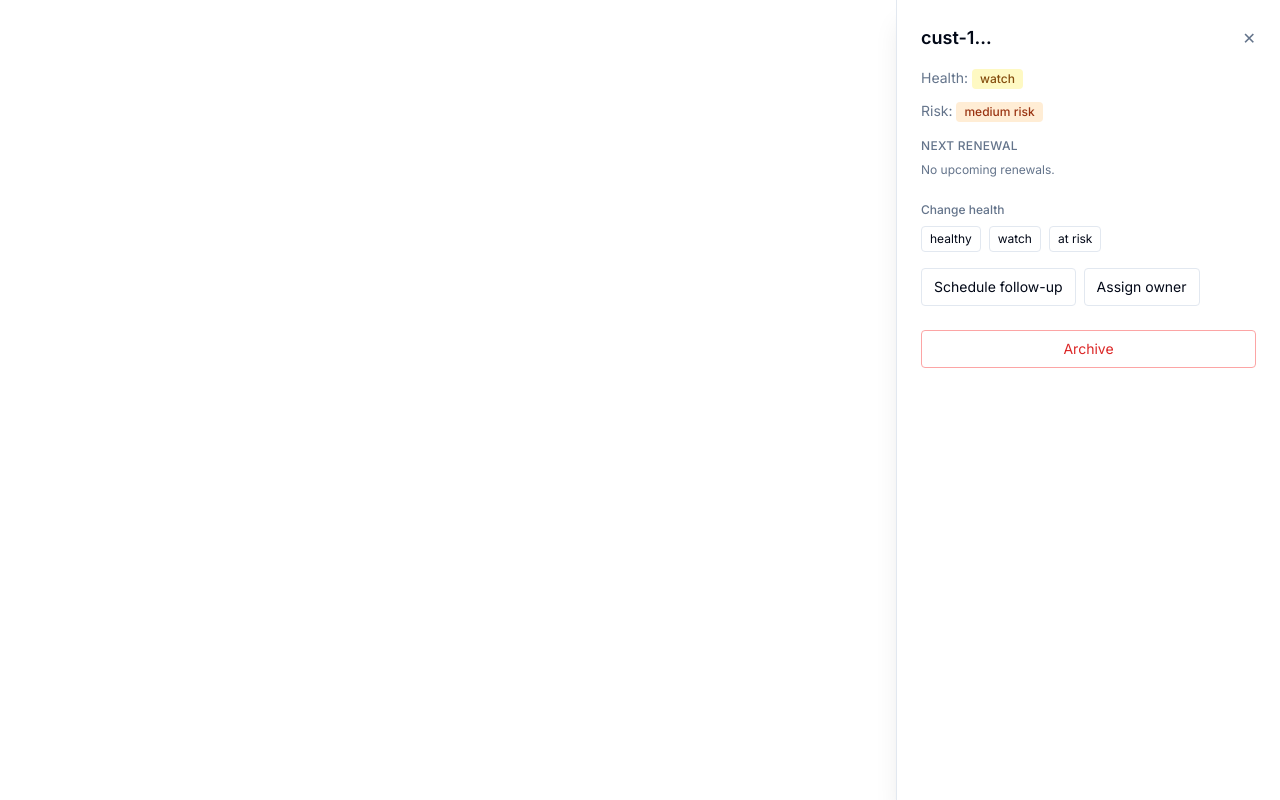
Test: CustomerSuccessDrawer › opens followup dialog on schedule-followup-btn click
The image size is (1280, 800).
Click the button with test id "schedule-followup-btn" at point(998, 287), box [921,268,1076,306]
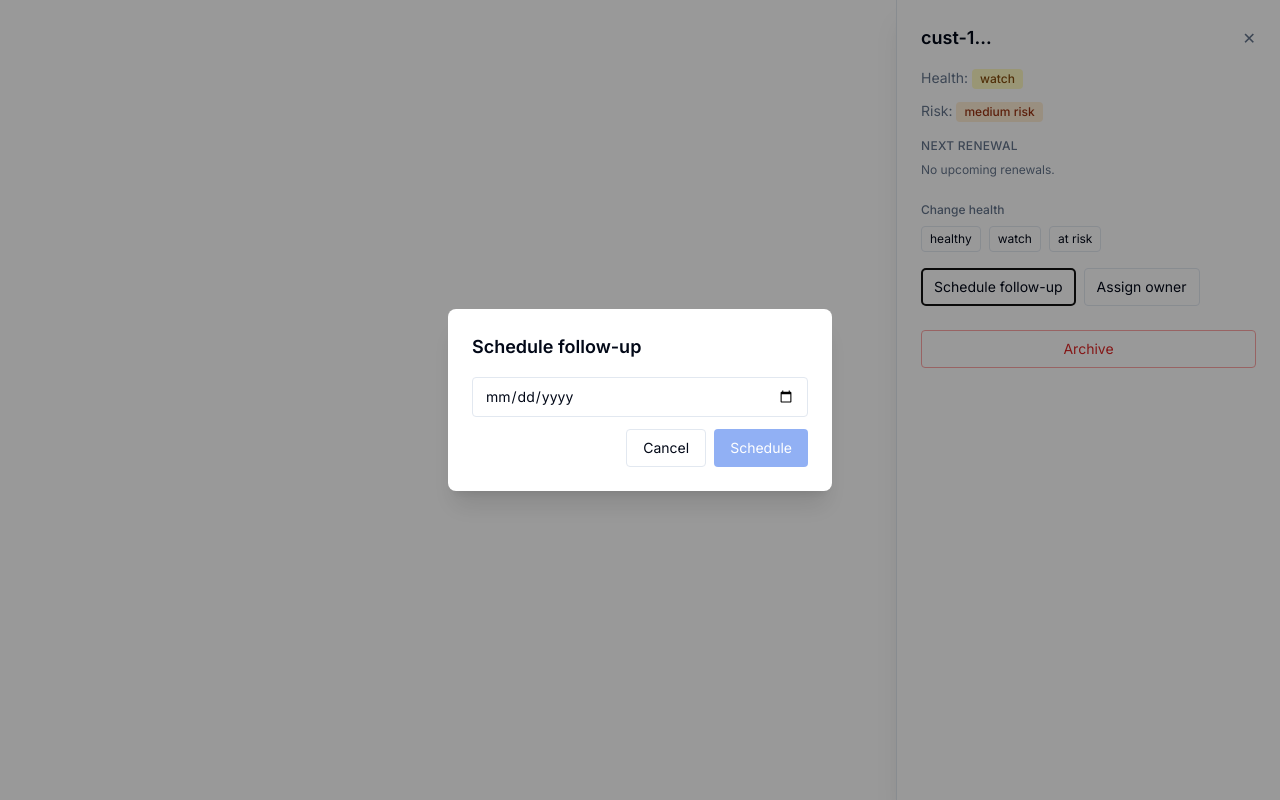
Now the element with test id "followup-dialog" is shown
